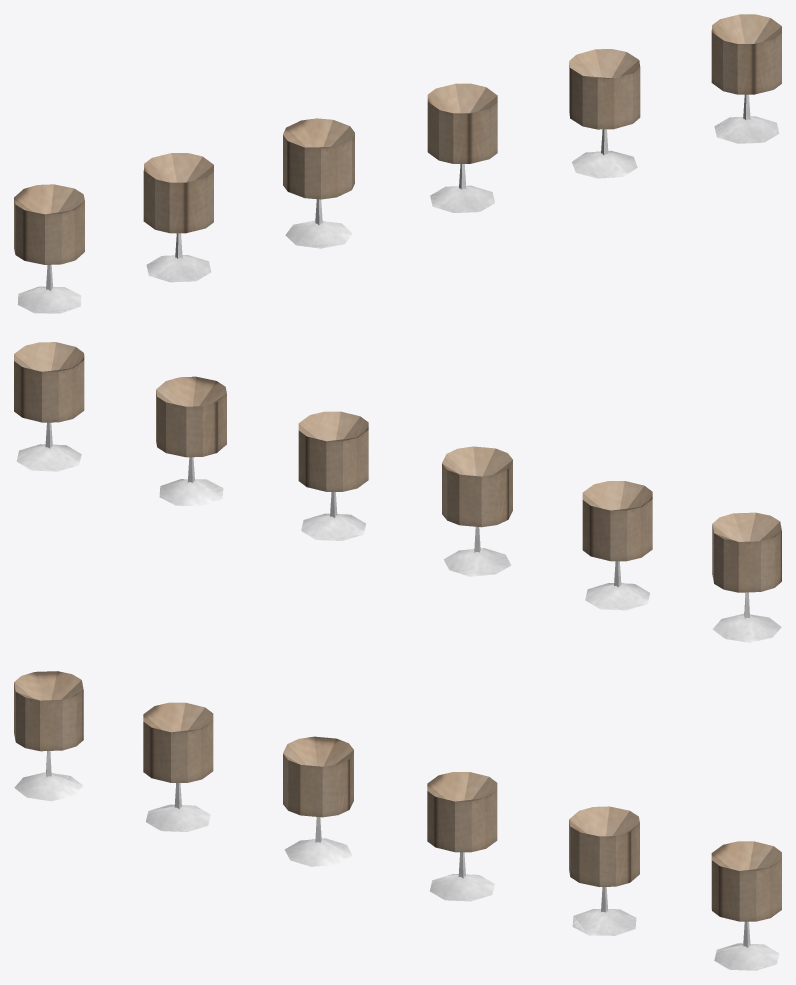
The model's file is Bundle_Lamps.fbx.
3 renders of one model, top to bottom at view 1: azimuth 30°, elevation 25°; view 2: azimuth 150°, elevation 25°; view 3: azimuth 330°, elevation 25°, orthographic.
Visible parts, largest first — view 1: Bundle_Lamp_1; view 2: Bundle_Lamp_1; view 3: Bundle_Lamp_1.
Boxes of the visible parts, x1=… form: Bundle_Lamp_1: x1=14, y1=14, x2=781, y2=313; Bundle_Lamp_1: x1=14, y1=342, x2=781, y2=642; Bundle_Lamp_1: x1=14, y1=671, x2=781, y2=970.
Bounding box in the file's own units: 447 × 56.77 × 36.59.
